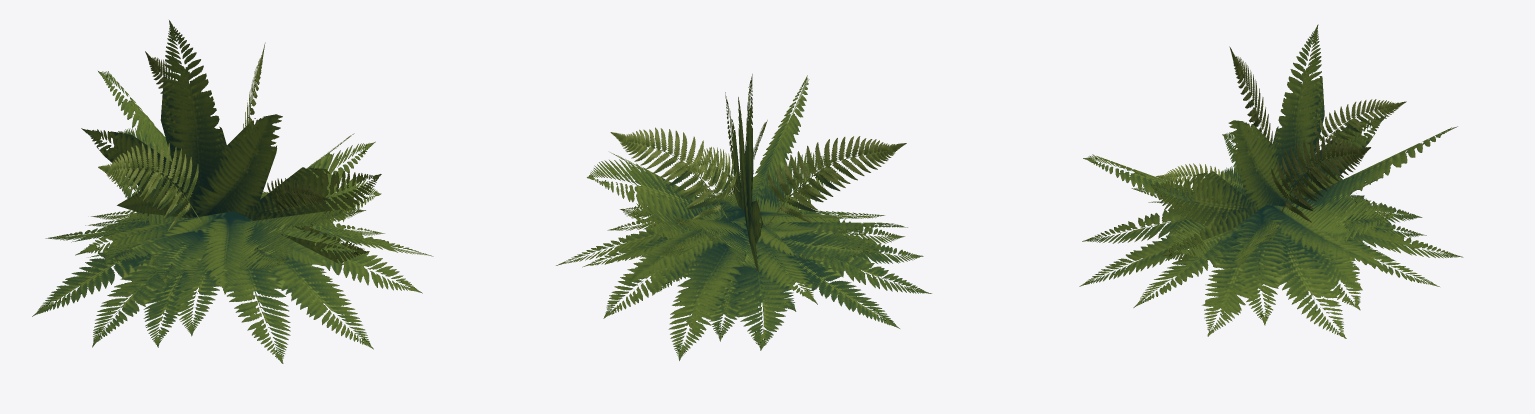
File: Fern.fbx
The picture shows the model from 3 angles, left to right: view 1: azimuth 30°, elevation 25°; view 2: azimuth 150°, elevation 25°; view 3: azimuth 270°, elevation 25°; orthographic projection. The views are drawn at different scales.
Parts seen in each view (by area): view 1: Fern; view 2: Fern; view 3: Fern.
Boxes of the visible parts, x1,y1,x2,y2 form: Fern: (32,20,433,363); Fern: (556,74,931,360); Fern: (1079,24,1463,338).
Size of the model in its own units: 109 by 58.65 by 107.
